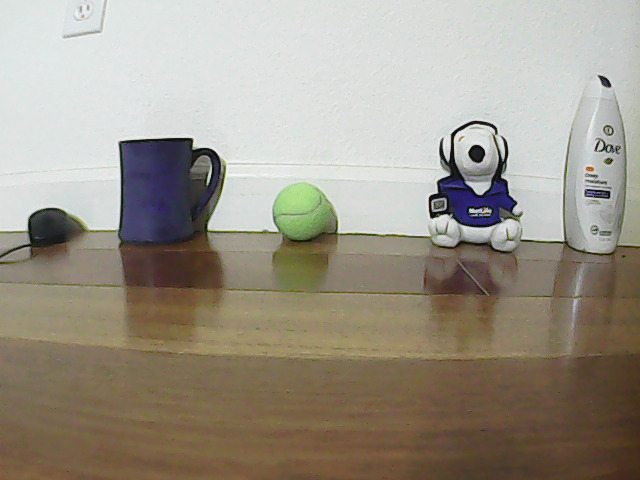ball: (270, 182, 336, 243)
mouse: (21, 203, 75, 250)
mug: (116, 136, 225, 253)
snoopy: (416, 115, 529, 257)
soap: (572, 69, 627, 260)
